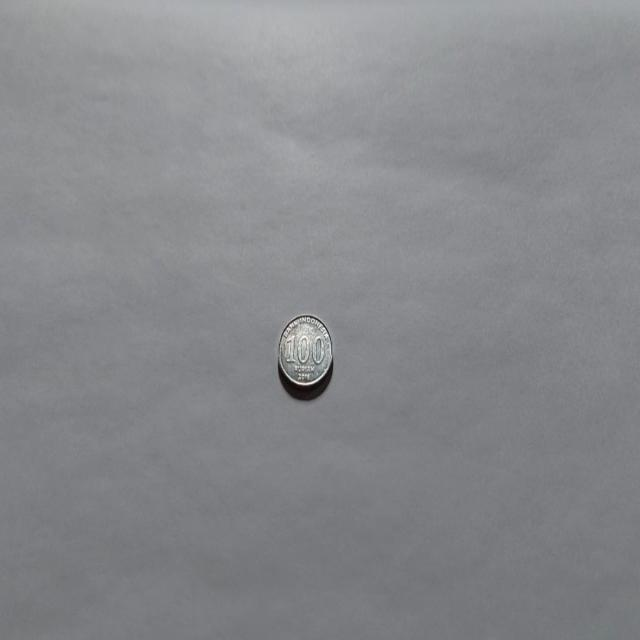seratus rupiah: (276, 312, 334, 392)
